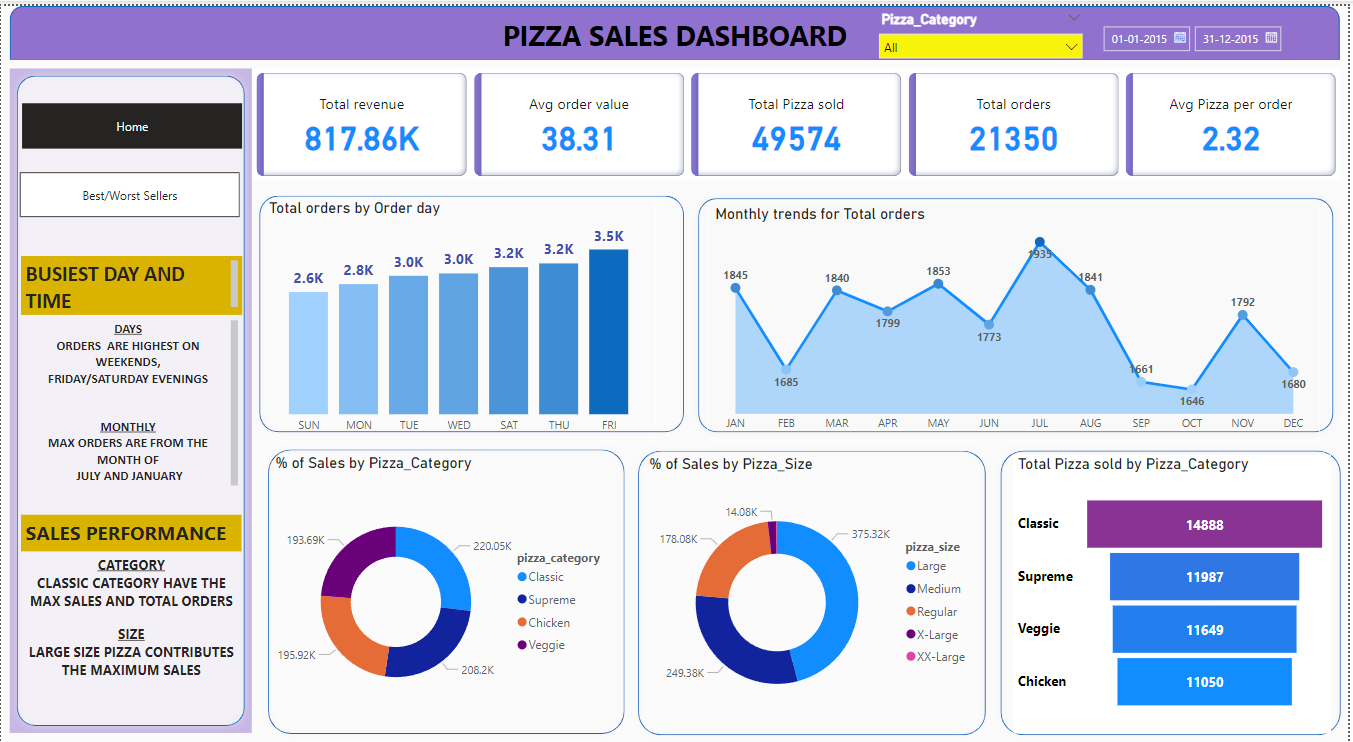

The dashboard page shown, as its layout file describes it:
{"tool":"powerbi","page":{"name":"Home","canvas":[1500,820],"ordinal":0},"visuals":[{"type":"shape","box":[9.8,70.2,269.7,740.2],"z":0},{"type":"cardVisual","fields":{"Data":["pizza_sales.Total revenue","pizza_sales.Avg order value","pizza_sales.Total Pizza sold","pizza_sales.Total orders","pizza_sales.Avg Pizza per order"]},"box":[279.5,70.2,1212.1,125],"z":1000},{"type":"shape","box":[10,0,1481.2,60],"z":2000},{"type":"columnChart","fields":{"Category":["pizza_sales.Order day"],"Y":["pizza_sales.Total orders"]},"box":[289.3,210.7,439.6,276.7],"z":3000},{"type":"shape","box":[768.3,206.5,723.3,276.7],"z":4000},{"type":"areaChart","title":"Monthly trends for Total orders","fields":{"Category":["pizza_sales.Order month"],"Y":["pizza_sales.Total orders"]},"box":[786.5,217.7,682.6,268.3],"z":5000},{"type":"shape","box":[279.5,203.7,488.8,279.5],"z":6000},{"type":"shape","box":[289.3,486,412.9,332.9],"z":7000},{"type":"shape","box":[702.2,487.4,403.1,332.9],"z":8000},{"type":"shape","box":[1105.3,487.4,394.7,332.9],"z":9000},{"type":"donutChart","title":"% of Sales by Pizza_Category","fields":{"Category":["pizza_sales.pizza_category"],"Y":["pizza_sales.Total revenue"]},"box":[300.6,498.6,387.6,311.8],"z":10000},{"type":"donutChart","title":"% of Sales by Pizza_Size","fields":{"Y":["pizza_sales.Total revenue"],"Category":["pizza_sales.pizza_size"]},"box":[716.3,500,375,310.4],"z":11000},{"type":"funnel","title":"Total Pizza sold by Pizza_Category","fields":{"Category":["pizza_sales.pizza_category"],"Y":["pizza_sales.Total Pizza sold"]},"box":[1127.8,500,353.9,310.4],"z":12000},{"type":"textbox","box":[22.3,278.4,246.4,65.4],"z":13000},{"type":"textbox","box":[22.3,345.3,246.4,201.9],"z":14000},{"type":"textbox","box":[22.5,566,245.8,40.7],"z":15000},{"type":"textbox","box":[22.5,606.7,245.8,189.6],"z":16000},{"type":"slicer","fields":{"Values":["pizza_sales.order_date"]},"box":[1215.4,12.5,231.1,47.3],"z":17000},{"type":"slicer","fields":{"Values":["pizza_sales.pizza_category"]},"box":[967.7,1.4,247.2,59],"z":18000},{"type":"pageNavigator","box":[23.9,108.1,245.8,50.6],"z":18001},{"type":"pageNavigator","box":[21.1,185.4,245.8,50.6],"z":18002}]}

Visuals, with their boxes in screenshot pixels (x1, y1, x2, y2), scaled from the page's 1500x820 canvas onto the 1353x742 screenshot:
shape: <bbox>9, 64, 252, 733</bbox>
cardVisual - pizza_sales.Total revenue x pizza_sales.Avg order value: <bbox>252, 64, 1345, 177</bbox>
shape: <bbox>9, 0, 1345, 54</bbox>
columnChart - pizza_sales.Order day x pizza_sales.Total orders: <bbox>261, 191, 657, 441</bbox>
shape: <bbox>693, 187, 1345, 437</bbox>
"Monthly trends for Total orders" areaChart: <bbox>709, 197, 1325, 440</bbox>
shape: <bbox>252, 184, 693, 437</bbox>
shape: <bbox>261, 440, 633, 741</bbox>
shape: <bbox>633, 441, 997, 741</bbox>
shape: <bbox>997, 441, 1352, 741</bbox>
"% of Sales by Pizza_Category" donutChart: <bbox>271, 451, 621, 733</bbox>
"% of Sales by Pizza_Size" donutChart: <bbox>646, 452, 984, 733</bbox>
"Total Pizza sold by Pizza_Category" funnel: <bbox>1017, 452, 1336, 733</bbox>
textbox: <bbox>20, 252, 242, 311</bbox>
textbox: <bbox>20, 312, 242, 495</bbox>
textbox: <bbox>20, 512, 242, 549</bbox>
textbox: <bbox>20, 549, 242, 721</bbox>
slicer - pizza_sales.order_date: <bbox>1096, 11, 1305, 54</bbox>
slicer - pizza_sales.pizza_category: <bbox>873, 1, 1096, 55</bbox>
pageNavigator: <bbox>22, 98, 243, 144</bbox>
pageNavigator: <bbox>19, 168, 241, 214</bbox>
